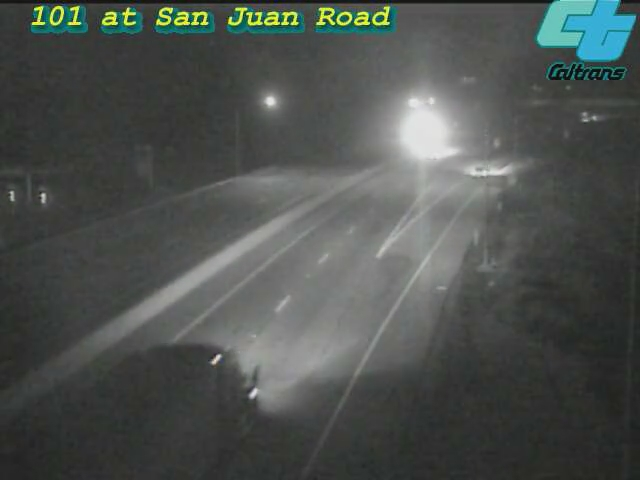vehicle: (101, 363, 211, 473), (443, 130, 523, 210), (394, 106, 444, 156), (562, 92, 612, 142), (422, 123, 472, 173)
